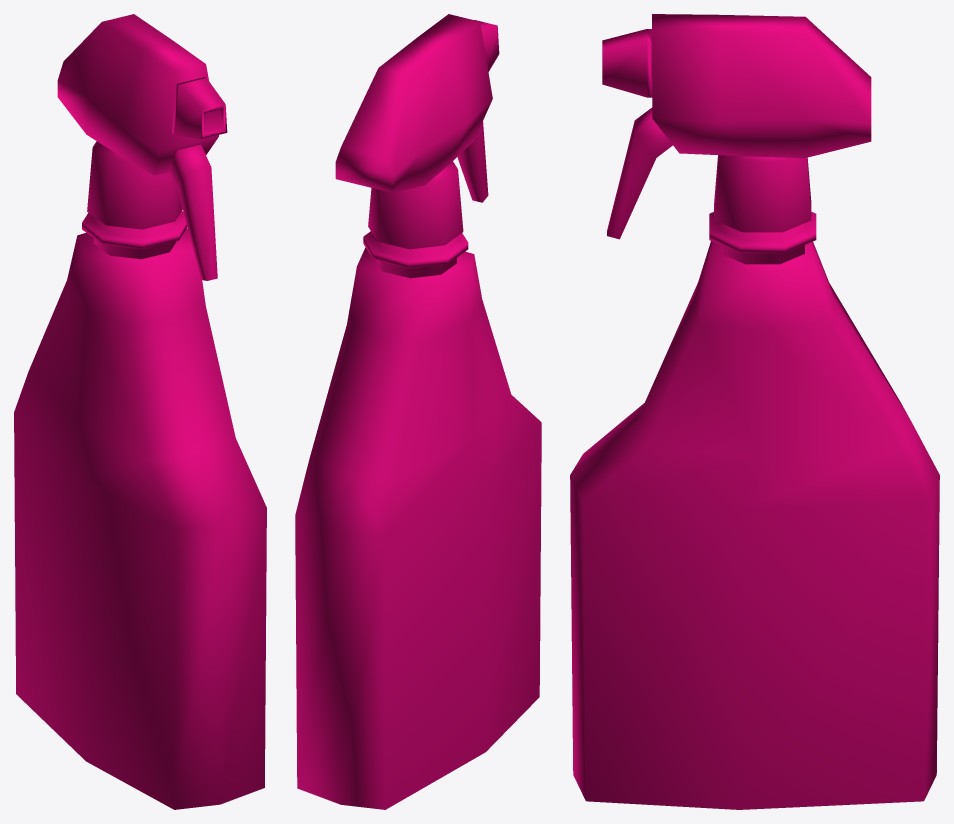
File: Household_05_Lod1.fbx
3 renders of one model, left to right at view 1: azimuth 30°, elevation 25°; view 2: azimuth 150°, elevation 25°; view 3: azimuth 270°, elevation 25°, orthographic. The views are drawn at different scales.
Visible parts, largest first — view 1: Household_05_Lod1; view 2: Household_05_Lod1; view 3: Household_05_Lod1.
Part boxes in pixels (x1=…): Household_05_Lod1: x1=14, y1=14, x2=266, y2=809; Household_05_Lod1: x1=295, y1=14, x2=541, y2=809; Household_05_Lod1: x1=570, y1=14, x2=939, y2=809.
Bounding box in the file's own units: 5.87 × 31.61 × 14.01.
